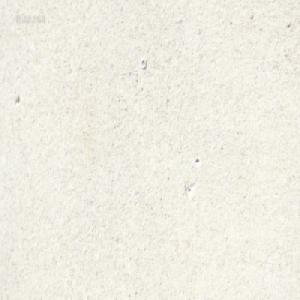Washer: (140, 57, 146, 68)
